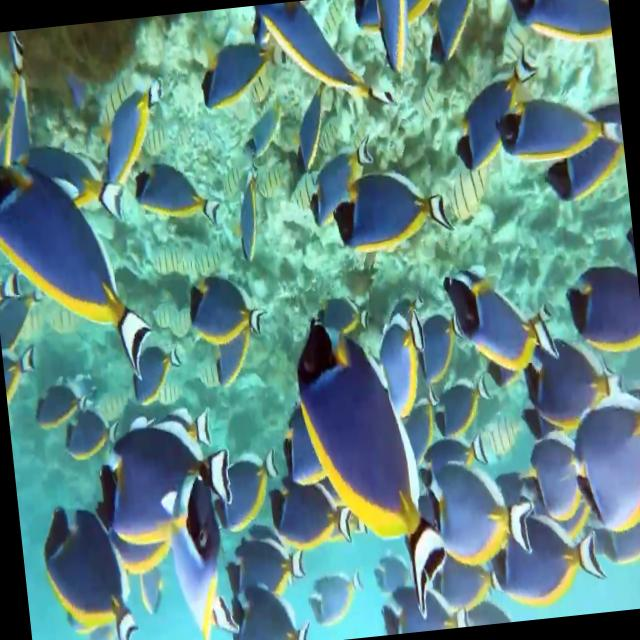fish: (283, 308, 452, 612), (0, 144, 151, 393), (87, 412, 237, 554), (254, 0, 393, 117), (438, 253, 562, 375), (442, 38, 546, 181), (40, 499, 140, 640), (416, 452, 534, 568), (156, 466, 232, 640), (490, 503, 606, 611), (329, 160, 456, 256), (566, 383, 640, 536), (520, 327, 621, 434), (490, 96, 624, 168), (98, 61, 174, 186), (300, 130, 380, 230), (192, 36, 296, 111), (564, 255, 640, 357), (526, 430, 601, 532), (266, 464, 354, 548), (182, 265, 268, 349), (133, 155, 224, 232), (225, 522, 305, 606), (208, 452, 281, 532), (426, 362, 493, 444), (226, 582, 313, 640)
